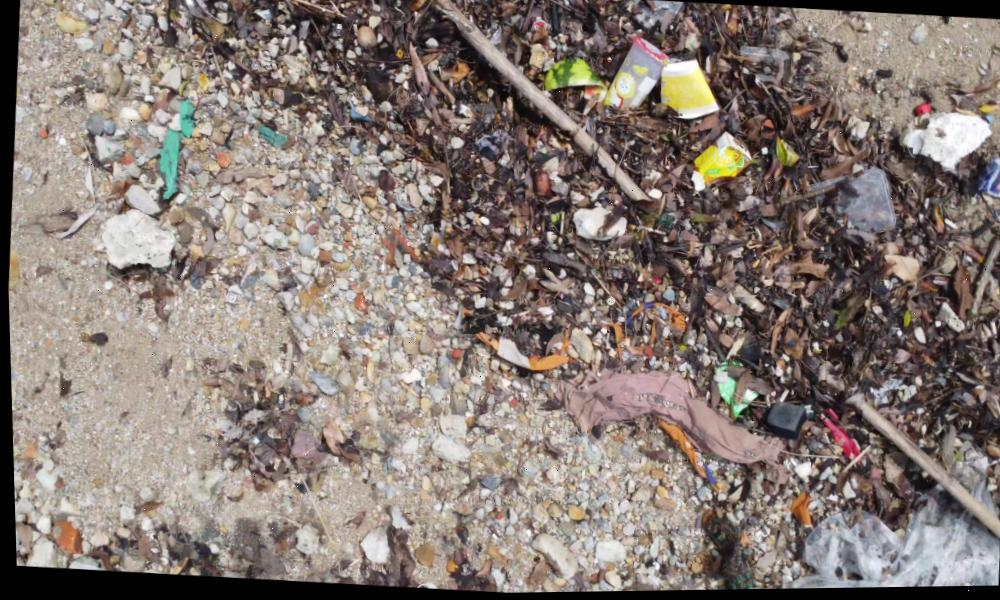carton: (653, 58, 728, 132), (686, 127, 761, 201)
plastic bag: (768, 496, 999, 591)
plastic container: (605, 23, 667, 130)
